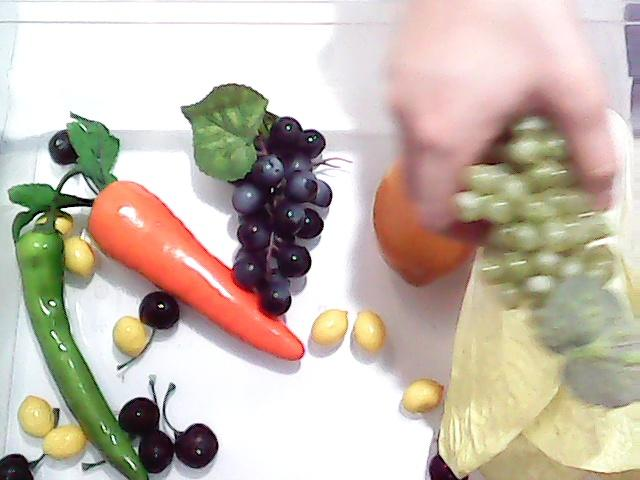carrot: (8, 108, 306, 364)
grape: (180, 80, 334, 316), (468, 116, 592, 306)
lemon: (363, 124, 491, 286)
napa cabbage: (436, 82, 640, 480)
pepper: (8, 182, 148, 480)
